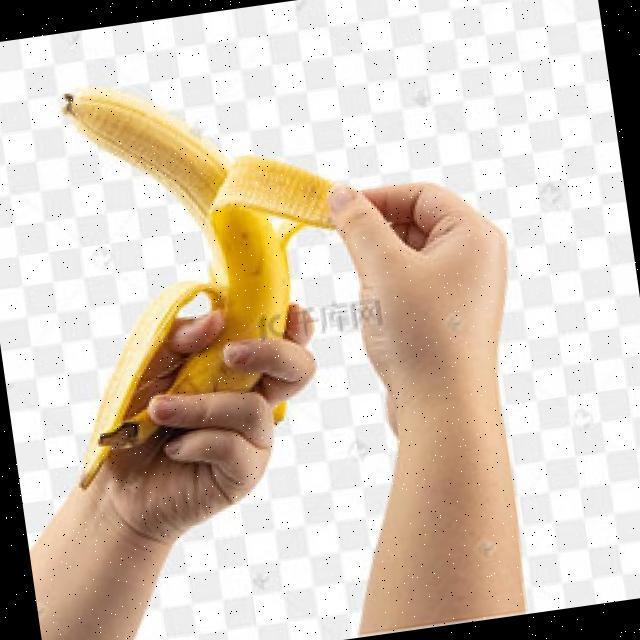banana-peel: (24, 52, 378, 489)
